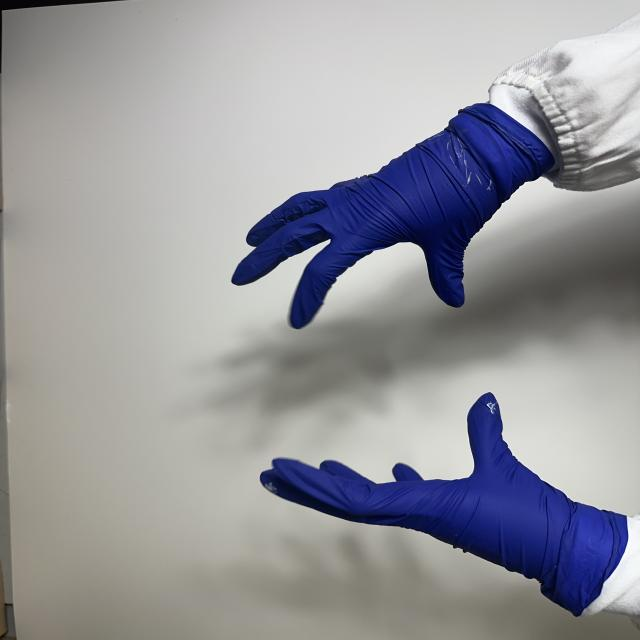gloves_contaminated: (260, 393, 630, 615), (232, 104, 553, 328)
